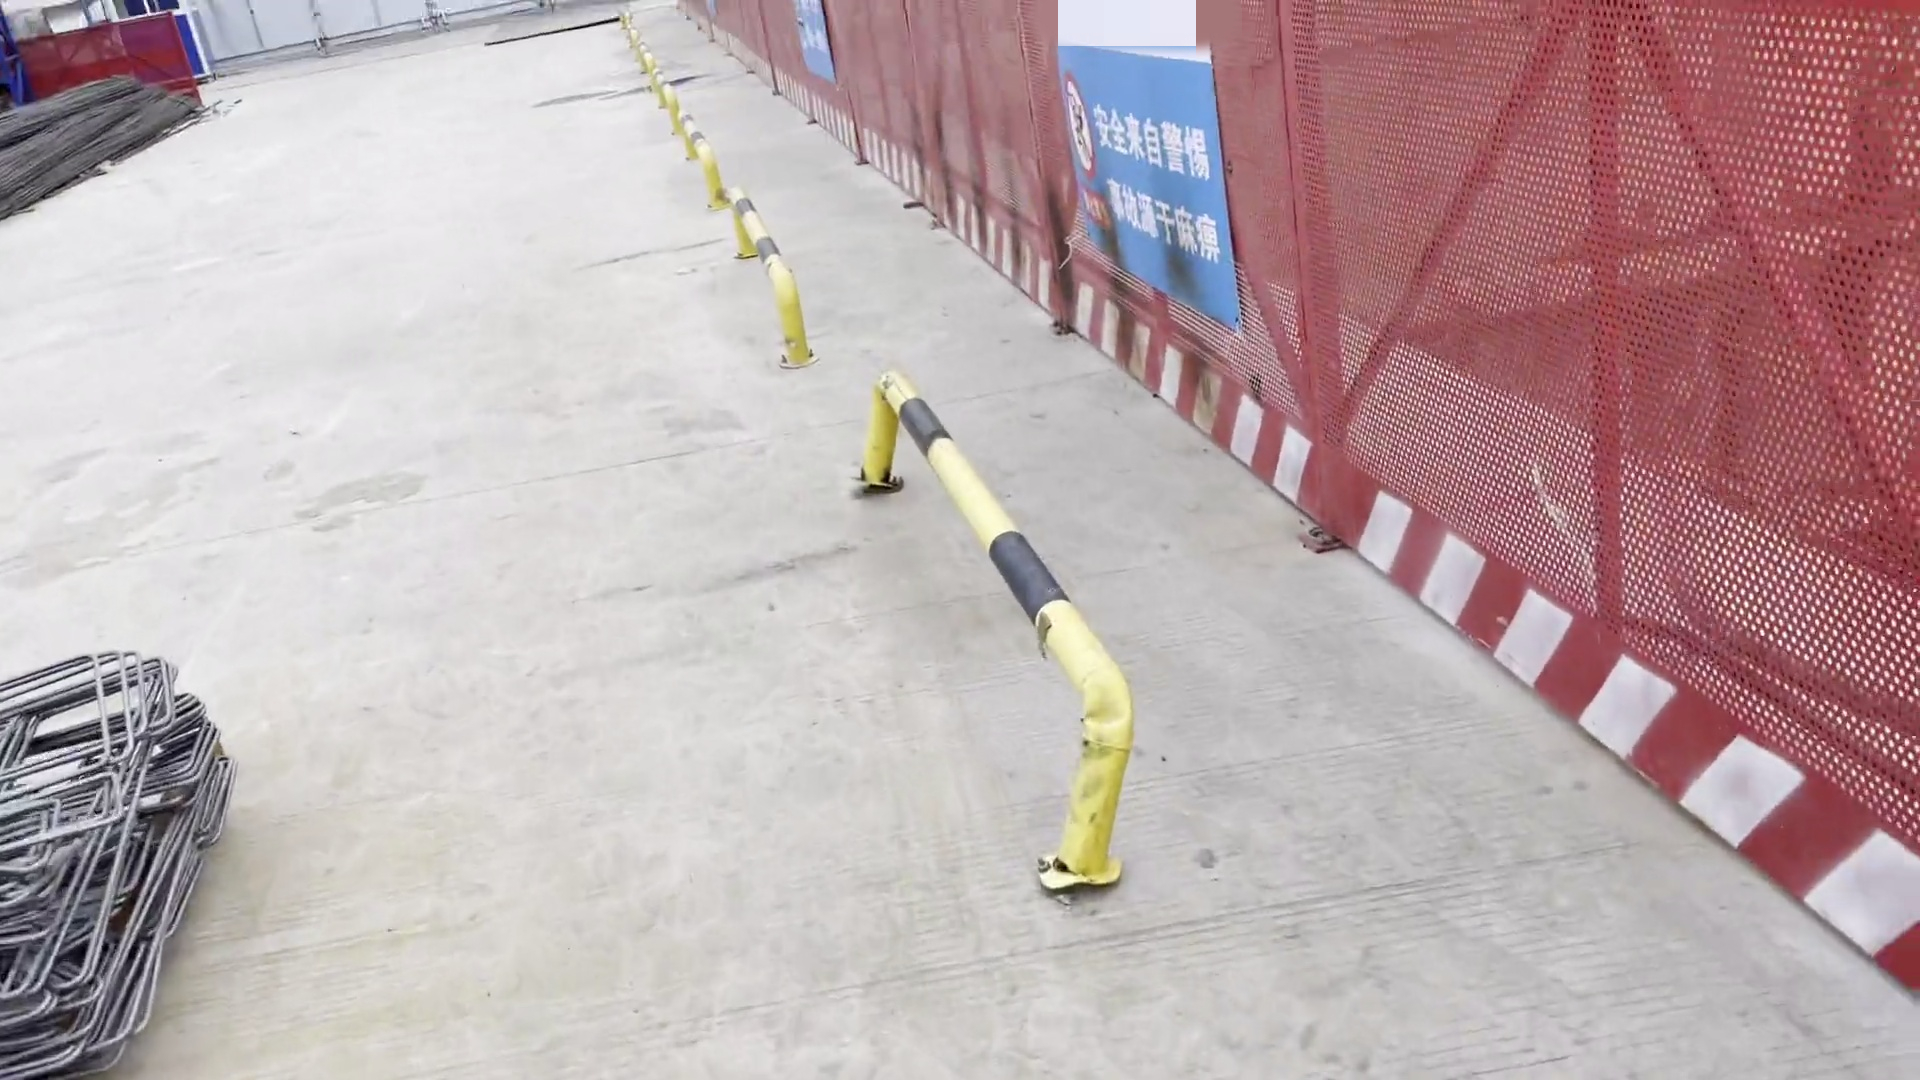fence: (1174, 3, 1920, 1006), (679, 1, 1179, 411), (18, 8, 215, 112)
rebar: (3, 69, 222, 222)
slogan: (1036, 4, 1261, 364), (771, 3, 864, 98)
